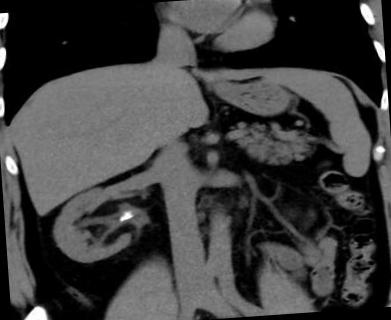Tas_Var: (118, 214, 133, 222), (124, 212, 130, 216)
